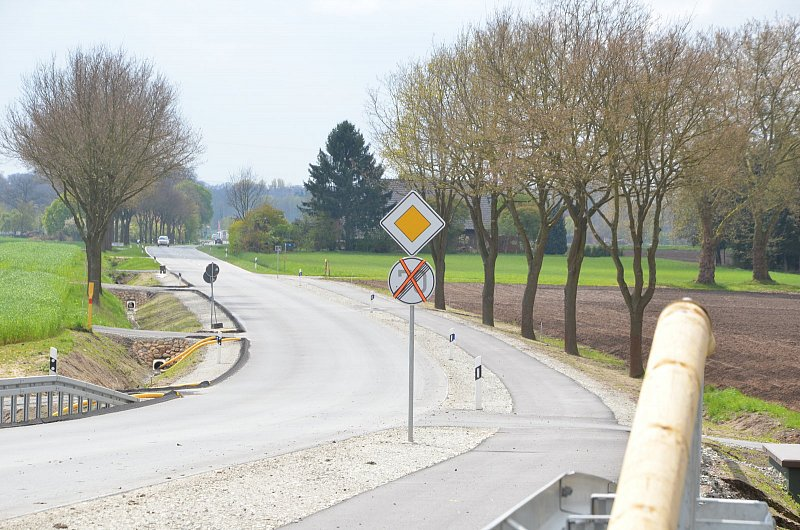aufgehoben: (387, 256, 436, 303)
